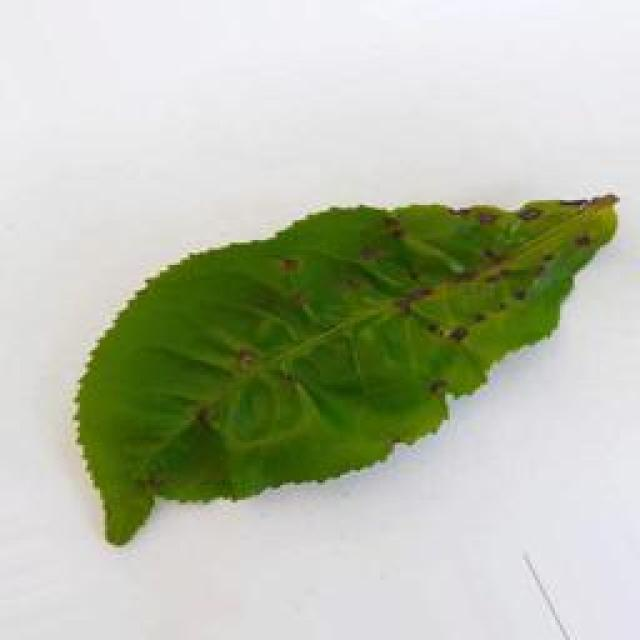Helopeltis: (79, 181, 624, 546)
